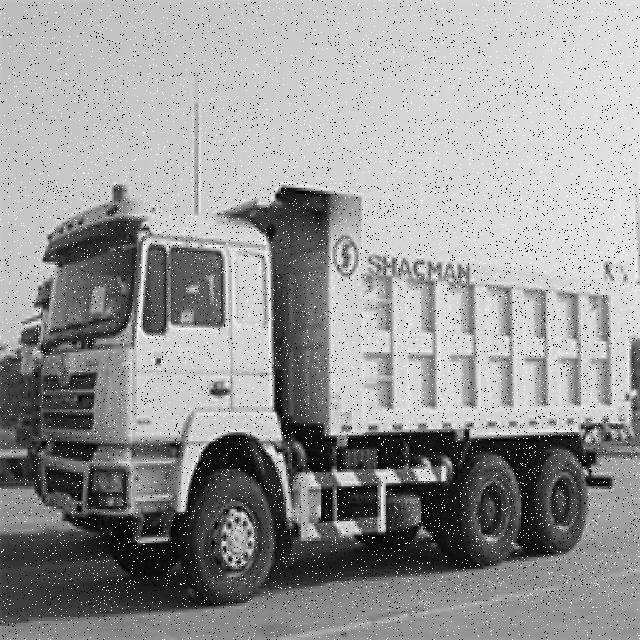Box Truck: (34, 183, 638, 607)
